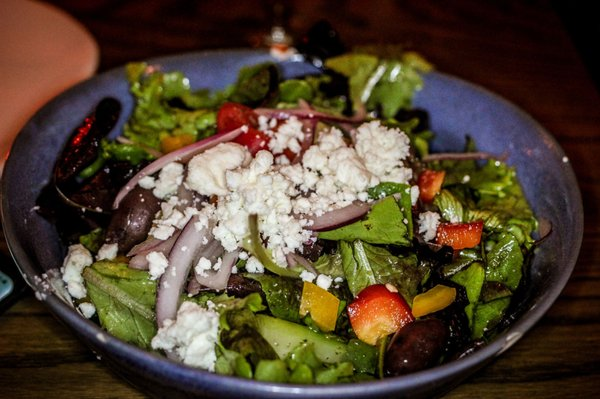curry: (81, 261, 159, 349), (316, 188, 414, 248)
sushi: (0, 41, 543, 395)
